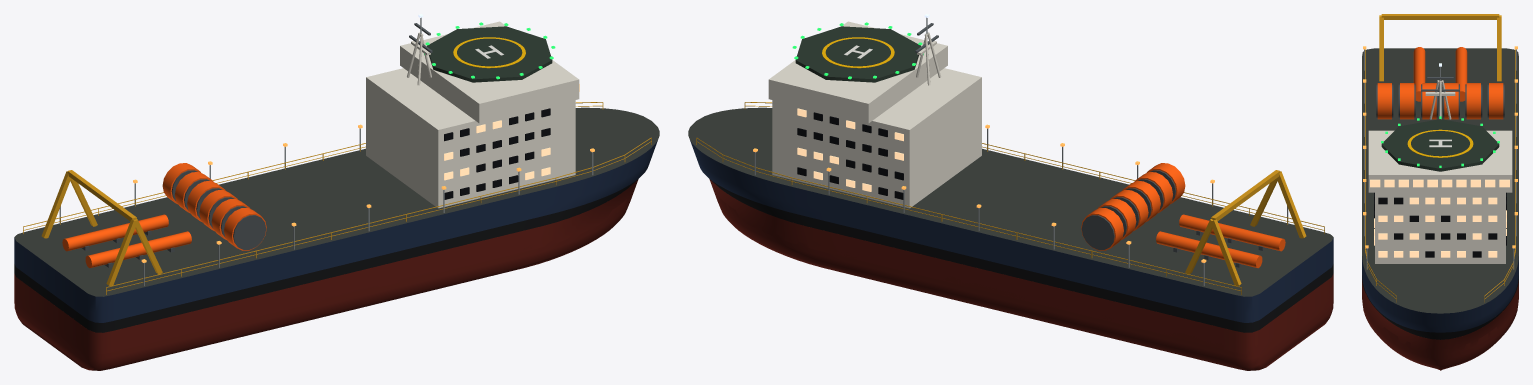
Rendered from sismico.glb.
3 views of the same model, side by side, from view 1: azimuth 30°, elevation 25°; view 2: azimuth 150°, elevation 25°; view 3: azimuth 270°, elevation 25° (orthographic). The views are drawn at different scales.
Visible parts, largest first — view 1: sismico_casco, sismico_topside_superestrutura, sismico_topside_laranja, sismico_topside_heliponto, sismico_topside_amarelo, sismico_topside_estrutura_escura, sismico_topside_janela_apagada, sismico_topside_janela, sismico_topside_estrutura; view 2: sismico_casco, sismico_topside_superestrutura, sismico_topside_laranja, sismico_topside_heliponto, sismico_topside_amarelo, sismico_topside_estrutura_escura, sismico_topside_janela_apagada, sismico_topside_janela, sismico_topside_estrutura; view 3: sismico_casco, sismico_topside_superestrutura, sismico_topside_heliponto, sismico_topside_laranja, sismico_topside_janela, sismico_topside_amarelo, sismico_topside_janela_apagada, sismico_topside_estrutura_escura, sismico_topside_marca_amarela, sismico_topside_estrutura, sismico_topside_luz_sodio, sismico_topside_aco_escuro (+2 smaller).
Part boxes in pixels (x1,y1,x2,y2): sismico_casco: [14, 107, 659, 370]; sismico_topside_superestrutura: [366, 21, 579, 208]; sismico_topside_laranja: [62, 163, 266, 268]; sismico_topside_heliponto: [427, 26, 552, 82]; sismico_topside_amarelo: [23, 102, 651, 294]; sismico_topside_estrutura_escura: [81, 170, 266, 267]; sismico_topside_janela_apagada: [444, 108, 550, 199]; sismico_topside_janela: [444, 84, 579, 180]; sismico_topside_estrutura: [59, 128, 593, 285]; sismico_casco: [688, 107, 1333, 370]; sismico_topside_superestrutura: [768, 21, 981, 208]; sismico_topside_laranja: [1081, 163, 1285, 268]; sismico_topside_heliponto: [795, 26, 920, 82]; sismico_topside_amarelo: [696, 102, 1324, 294]; sismico_topside_estrutura_escura: [1081, 170, 1266, 267]; sismico_topside_janela_apagada: [797, 112, 903, 199]; sismico_topside_janela: [797, 108, 903, 191]; sismico_topside_estrutura: [754, 128, 1288, 285]; sismico_casco: [1362, 48, 1518, 370]; sismico_topside_superestrutura: [1368, 80, 1512, 263]; sismico_topside_heliponto: [1381, 119, 1499, 171]; sismico_topside_laranja: [1377, 47, 1503, 119]; sismico_topside_janela: [1370, 179, 1509, 257]; sismico_topside_amarelo: [1365, 14, 1515, 302]; sismico_topside_janela_apagada: [1374, 192, 1506, 257]; sismico_topside_estrutura_escura: [1376, 84, 1504, 118]; sismico_topside_marca_amarela: [1407, 129, 1473, 157]; sismico_topside_estrutura: [1364, 49, 1516, 269]; sismico_topside_luz_sodio: [1363, 46, 1517, 248]; sismico_topside_aco_escuro: [1421, 77, 1459, 91].
Size of the model in its own units: 96 by 36.85 by 24.
